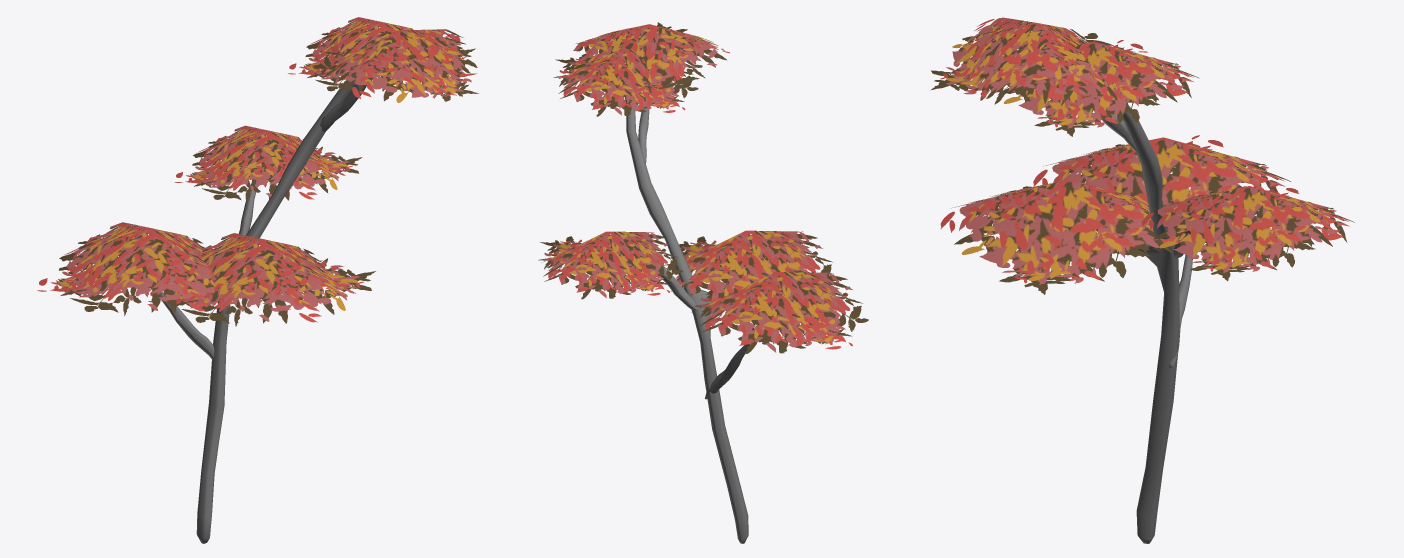
The model's file is red_tree.obj.
The picture shows the model from 3 angles, left to right: view 1: azimuth 30°, elevation 25°; view 2: azimuth 150°, elevation 25°; view 3: azimuth 270°, elevation 25°; orthographic projection. The views are drawn at different scales.
Parts seen in each view (by area): view 1: pasted__ZBrush_defualt_group11; view 2: pasted__ZBrush_defualt_group11; view 3: pasted__ZBrush_defualt_group11.
Boxes of the visible parts, x1,y1,x2,y2 form: pasted__ZBrush_defualt_group11: (37, 17, 478, 543); pasted__ZBrush_defualt_group11: (538, 22, 868, 543); pasted__ZBrush_defualt_group11: (930, 17, 1354, 543).
Size of the model in its own units: 1.9 by 2.17 by 1.58.
Materials: 2 (1 with a texture image).
